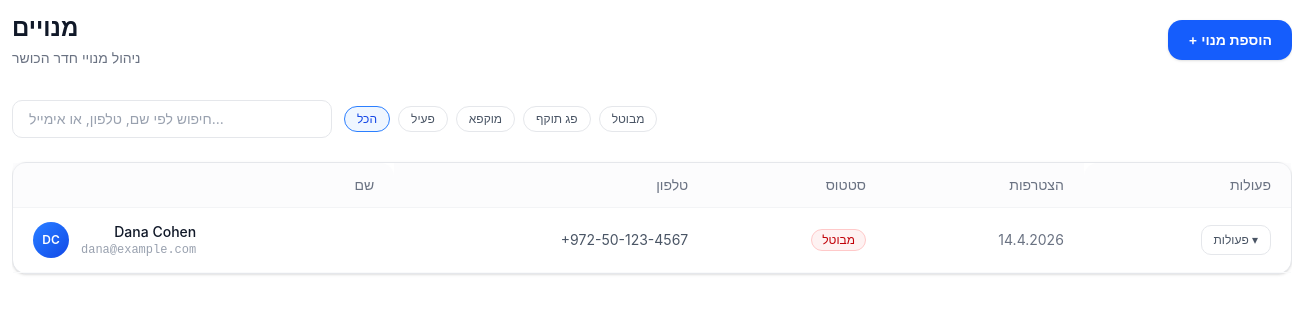
Test: MemberListPage › cancelled members show no status-change actions
Step 1. Click the button "פעולות ▾" → coordinates (1236, 240), box [1201, 225, 1271, 255]
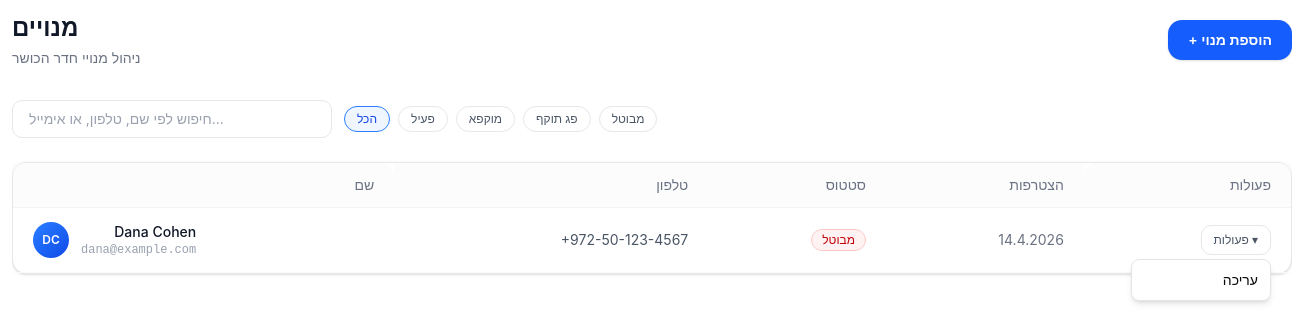
Check: the menu item "עריכה" is shown, box [1223, 271, 1258, 288]
